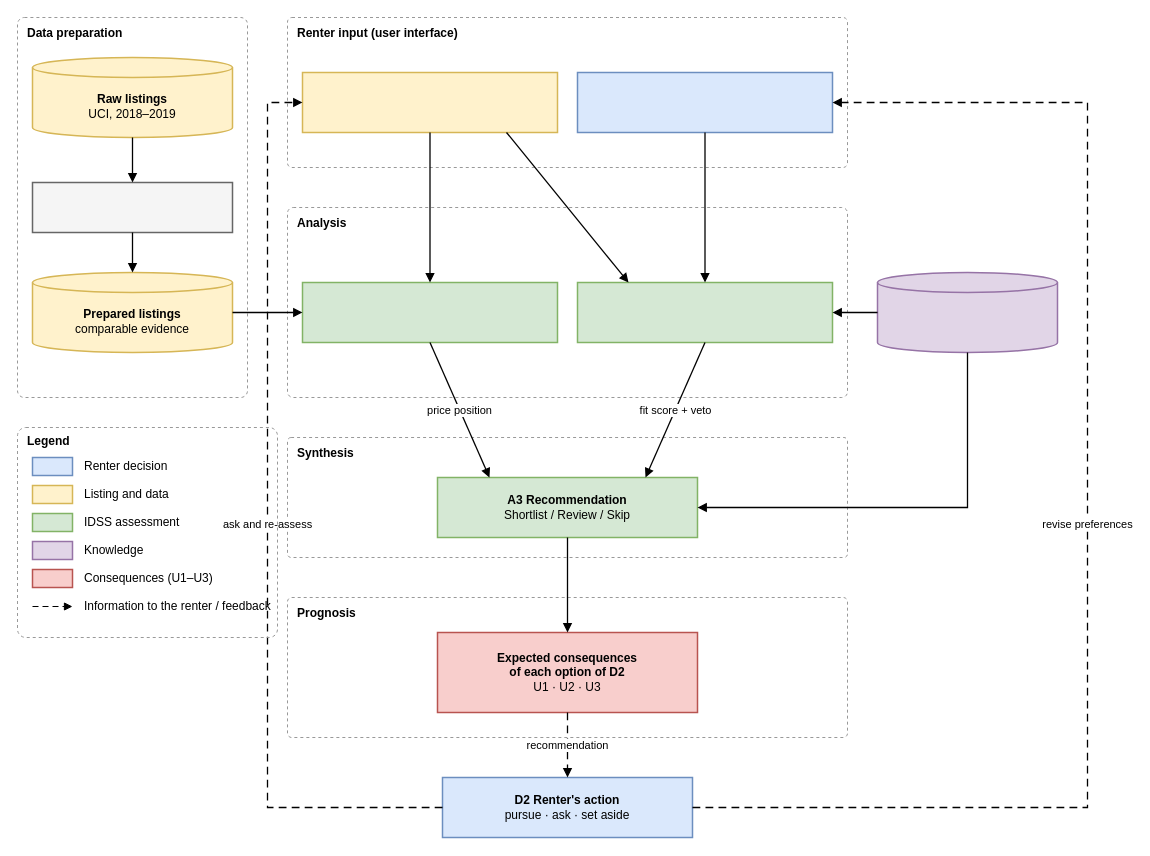
Image size: 1150x856. Some labels were removed from this diagram. Each missing label, with the centre of its shape:
"A1 Price position data-driven (regression + KNN comparables)" belongs at [429,312].
"A2 Personal fit knowledge-based (WSM + veto)" belongs at [704,312].
"Apartment listing" belongs at [429,102].
"Clean and validate" belongs at [132,207].
"D1 User preferences targets and weights" belongs at [704,102].
"Knowledge base criteria and rules" belongs at [967,312].
